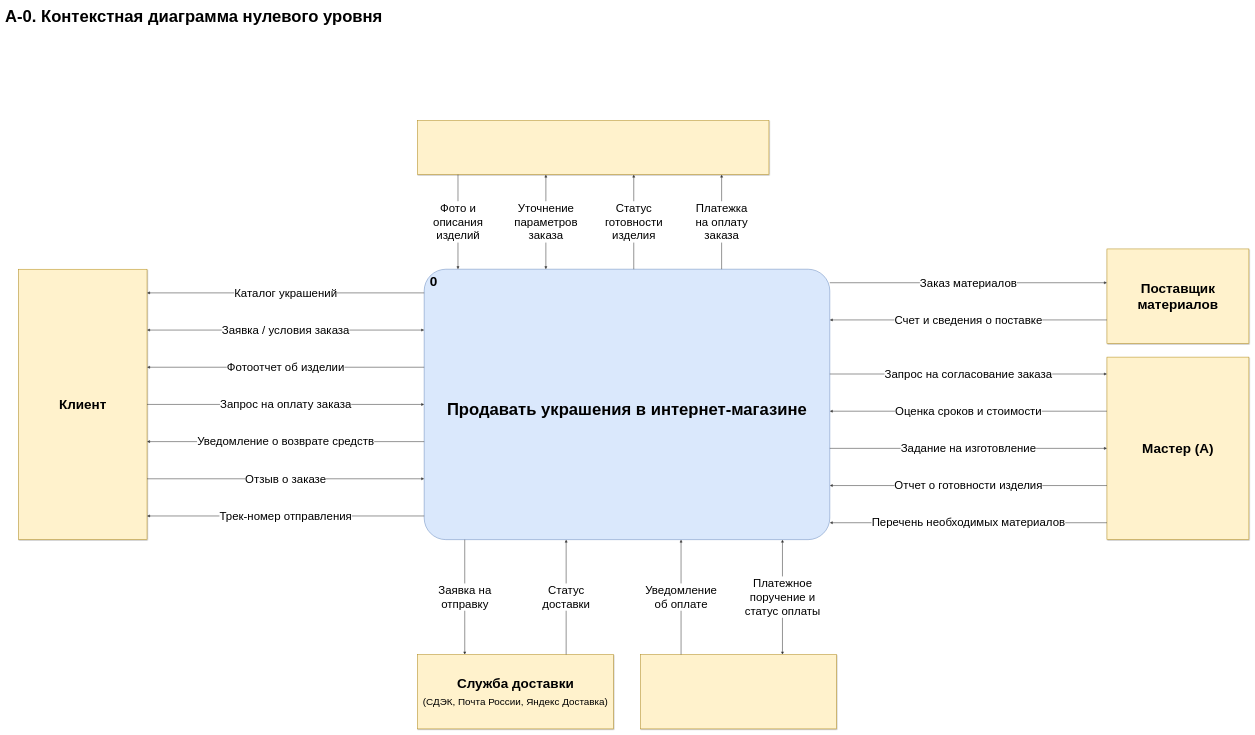
The diagram is 1255 pixels wide and 735 high, and some of its shapes have lost their labels. The shapes that lost their labels are listed below. From the top down, each one's centre as x and y in pixels, then its label:
[593,148]: Менеджер (Н)
[738,692]: Платёжная система
